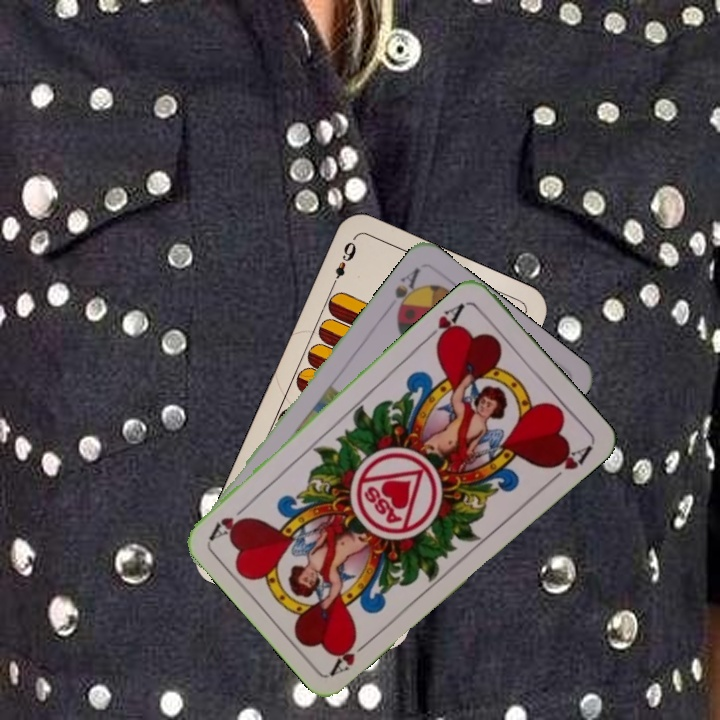E9: (327, 237, 359, 291)
HA: (422, 299, 468, 350), (327, 632, 376, 677)
SA: (390, 263, 424, 320)
